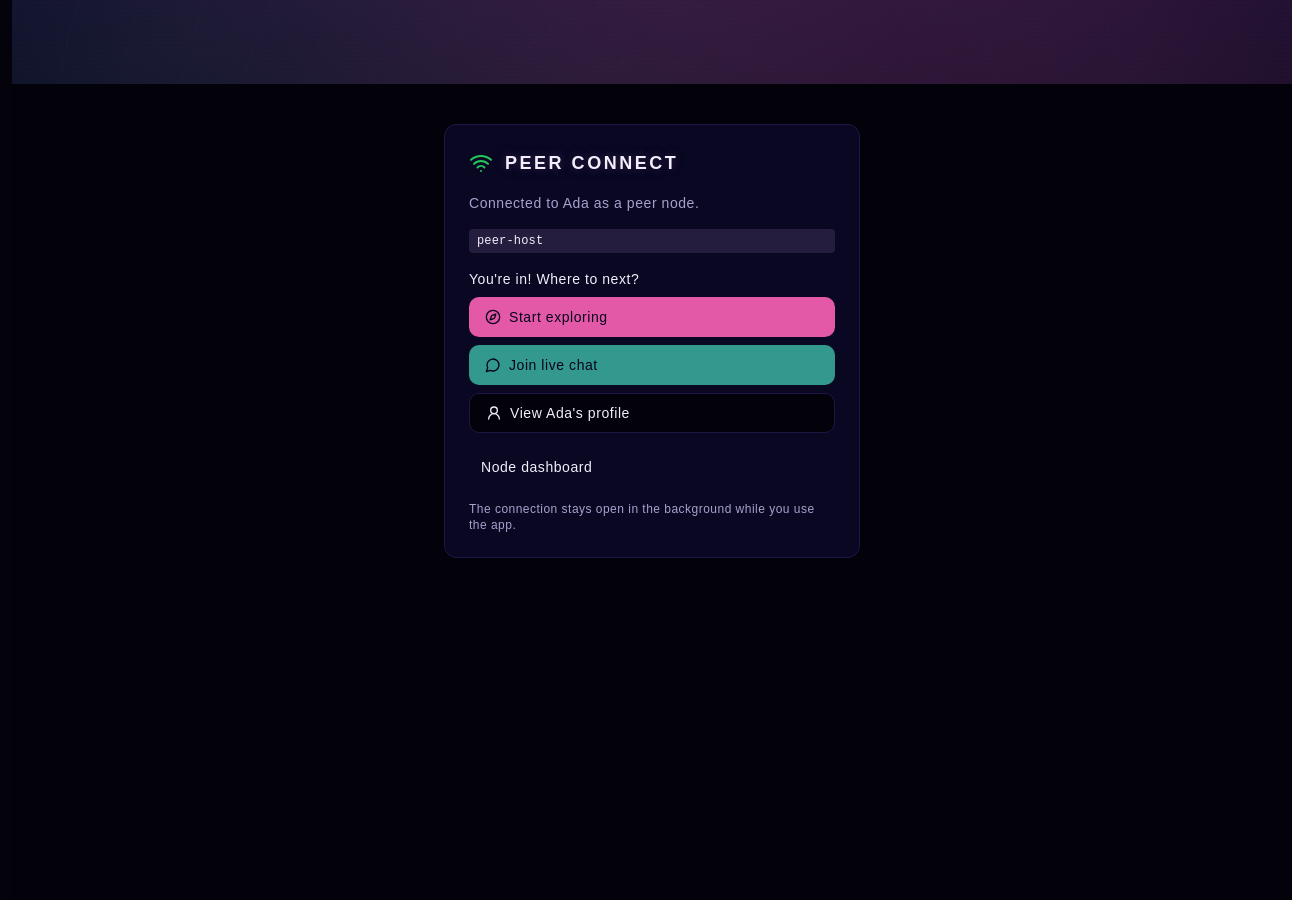
Test: PeerConnect next steps › opens the inviter’s profile once their name is known
This screenshot has width=1292, height=900.
Expected: the message shows "Connected to Ada", [469,195,699,211]
Click the button "View Ada's profile". click: coordinates (570, 413)
box: [469,393,835,433]
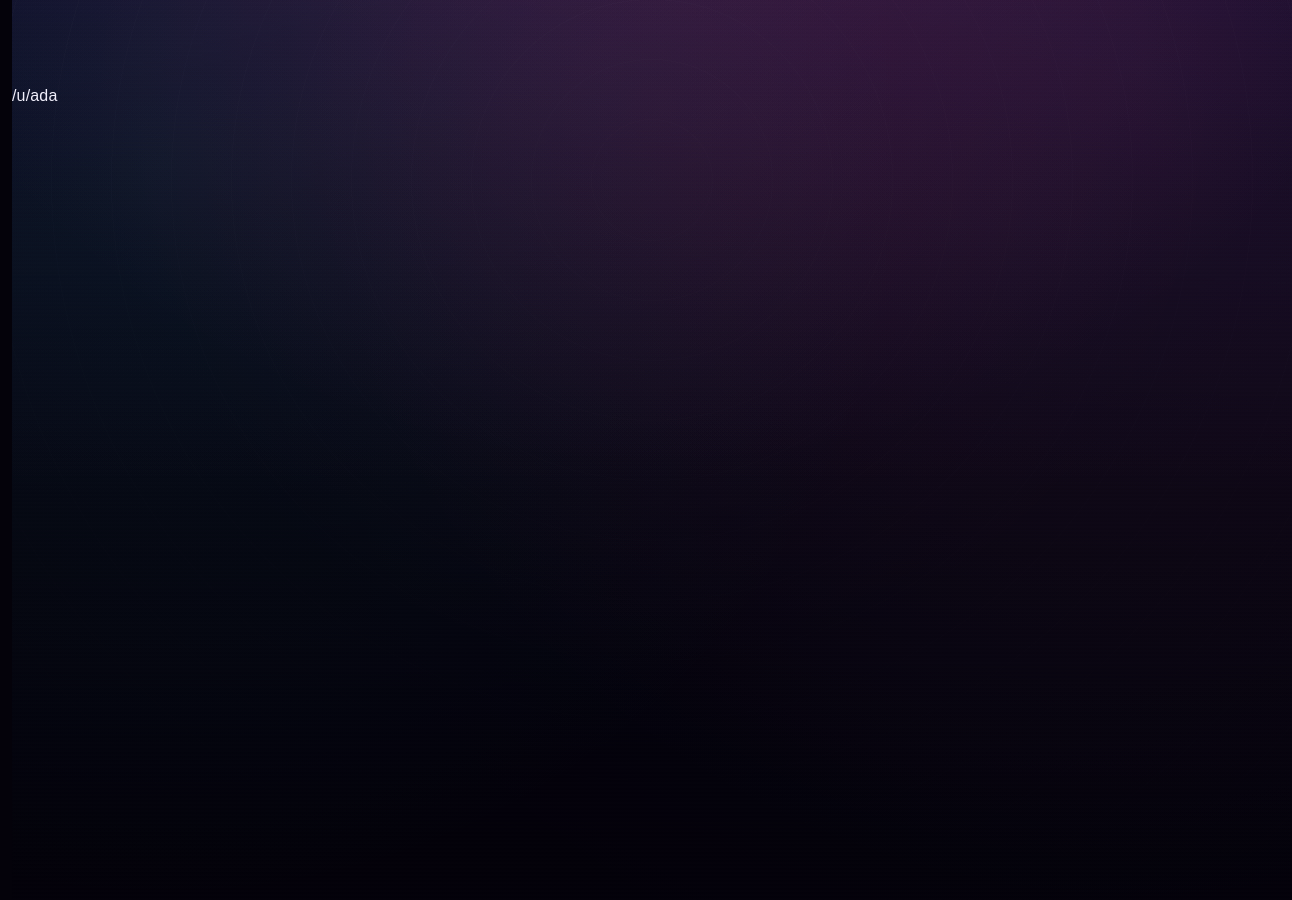
Result: the text with test id "where" reads "/u/ada" at [12,87,58,104]
